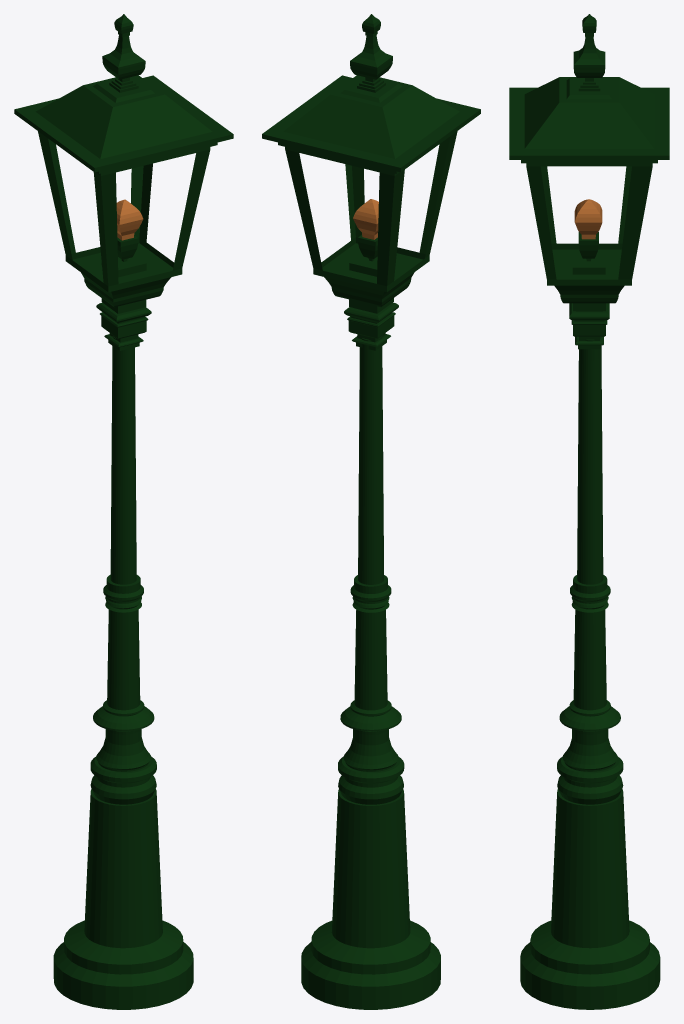
The model's file is lantaarnpaal.fbx.
The picture shows the model from 3 angles, left to right: view 1: azimuth 30°, elevation 25°; view 2: azimuth 150°, elevation 25°; view 3: azimuth 270°, elevation 25°; orthographic projection.
Parts seen in each view (by area): view 1: Cylinder, Cube, Cube.002; view 2: Cylinder, Cube, Cube.002; view 3: Cylinder, Cube, Cube.002.
Part boxes in pixels (x1,y1,x2,y2): Cylinder: (53,336,193,1009); Cube: (14,14,233,350); Cube.002: (116,199,143,240); Cylinder: (301,336,440,1009); Cube: (262,14,480,350); Cube.002: (353,199,378,239); Cylinder: (520,336,660,1009); Cube: (509,14,669,349); Cube.002: (574,199,602,239).
Size of the model in its own units: 134 by 889 by 134.
